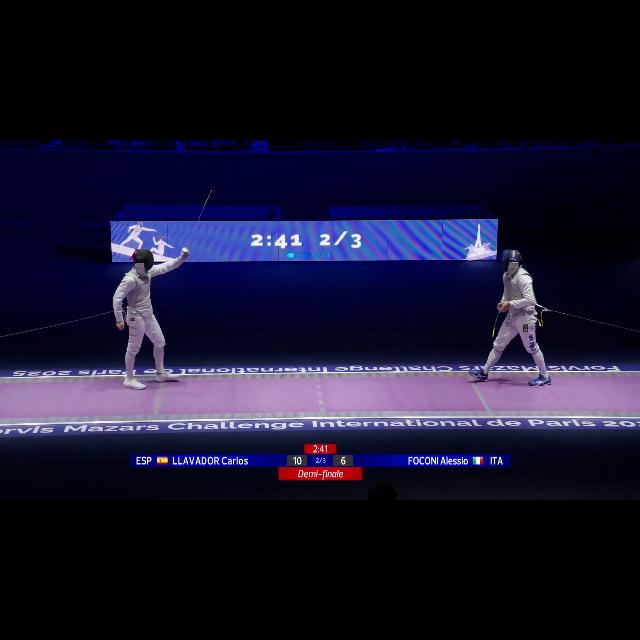blade: (182, 188, 218, 258), (490, 300, 504, 342)
